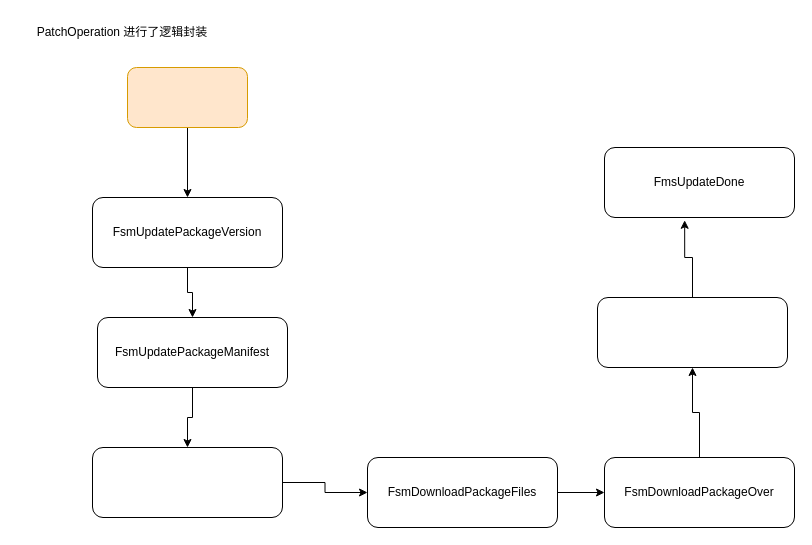
Image size: 812x545. Some labels were removed from this diagram. The shapes that lost their labels are listed below. From the top down, each one's centre as x and y in pixels, then its label:
the point at 187,97: FsmInitializePackage
the point at 692,332: FsmClearPackageCache
the point at 187,482: FsmCreatePackageDownloader
